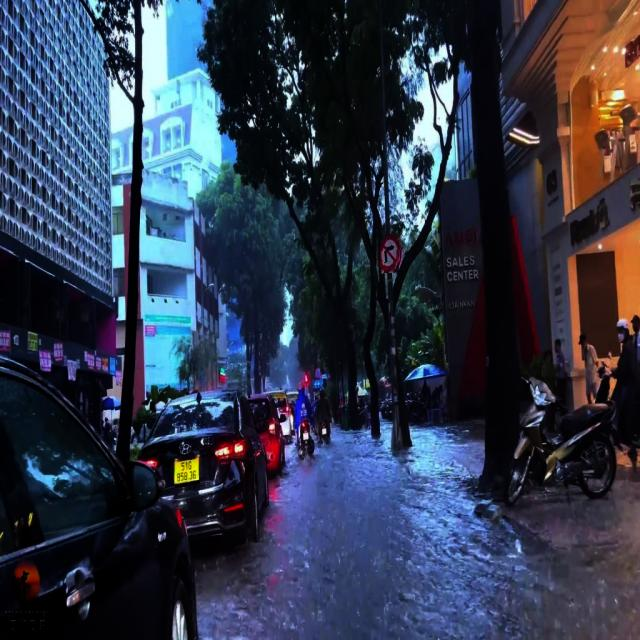cam_dung_xe_va_do_xe: (315, 366, 322, 378)
cam_re_phai: (380, 234, 402, 274)
huong_di_tren_moi_lan_duong_theo_vach_ke_duong: (314, 379, 324, 389)
